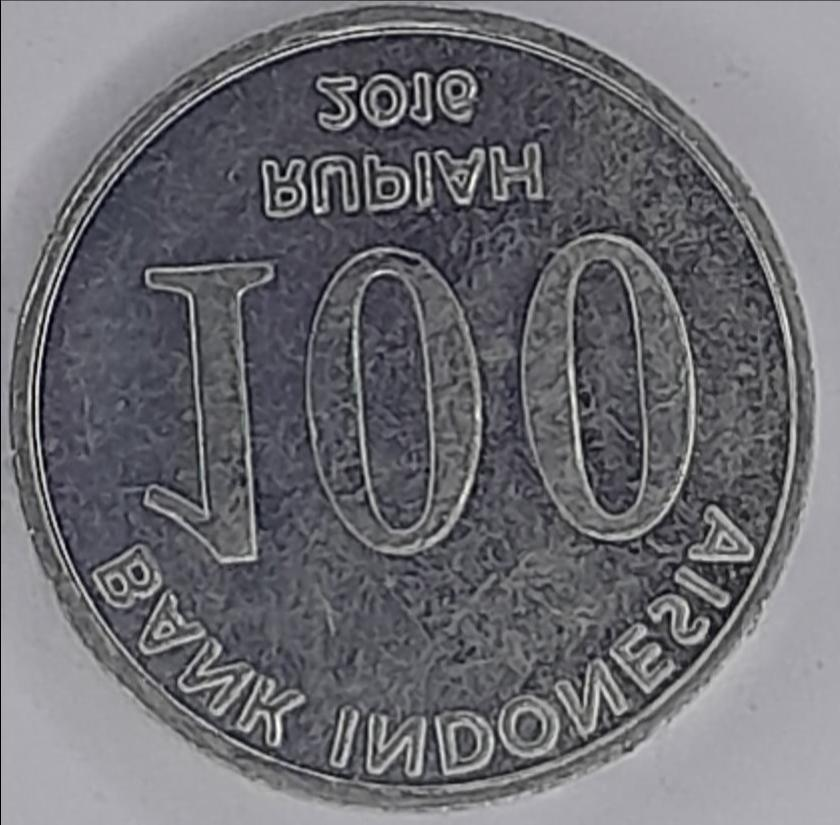coin_100_e2016: (5, 0, 823, 813)
